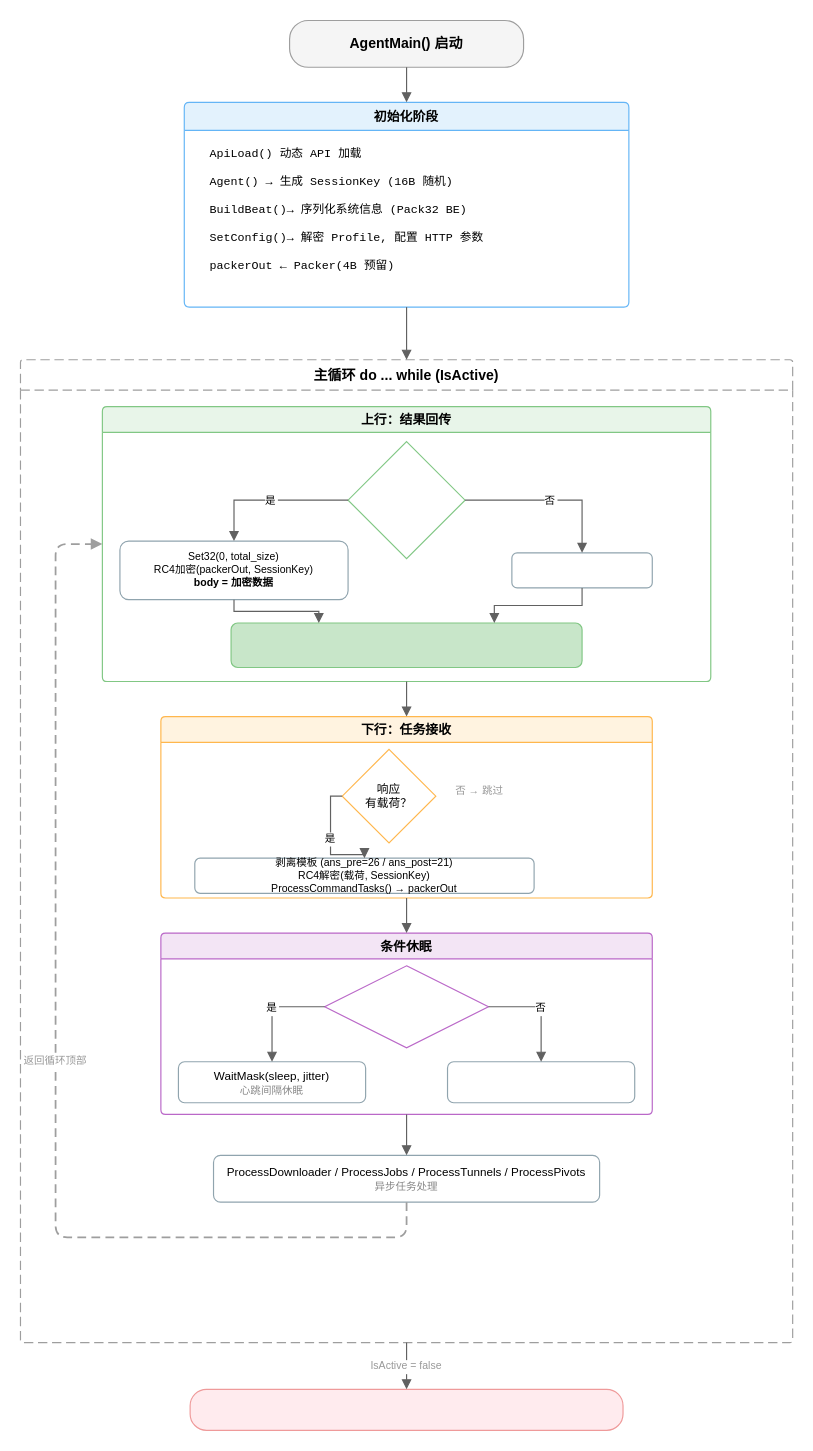
The diagram is 813 pixels wide and 1451 high, and some of its shapes have lost their labels. Here are the shapes that lost their labels. From the top down, the centre of each, then its label:
point (406, 500): packerOut 有数据？
point (581, 570): body = 空
point (406, 644): HTTP POST /c2.php Header: X-Beacon-Id = Base64( RC4(Beat, EncryptKey) )
point (406, 1006): IsActive AND 无待发数据？
point (540, 1082): 跳过休眠, 立即下一轮 即时跟随
point (406, 1409): Exit → 发送退出通知 → CloseConnector → AgentClear
